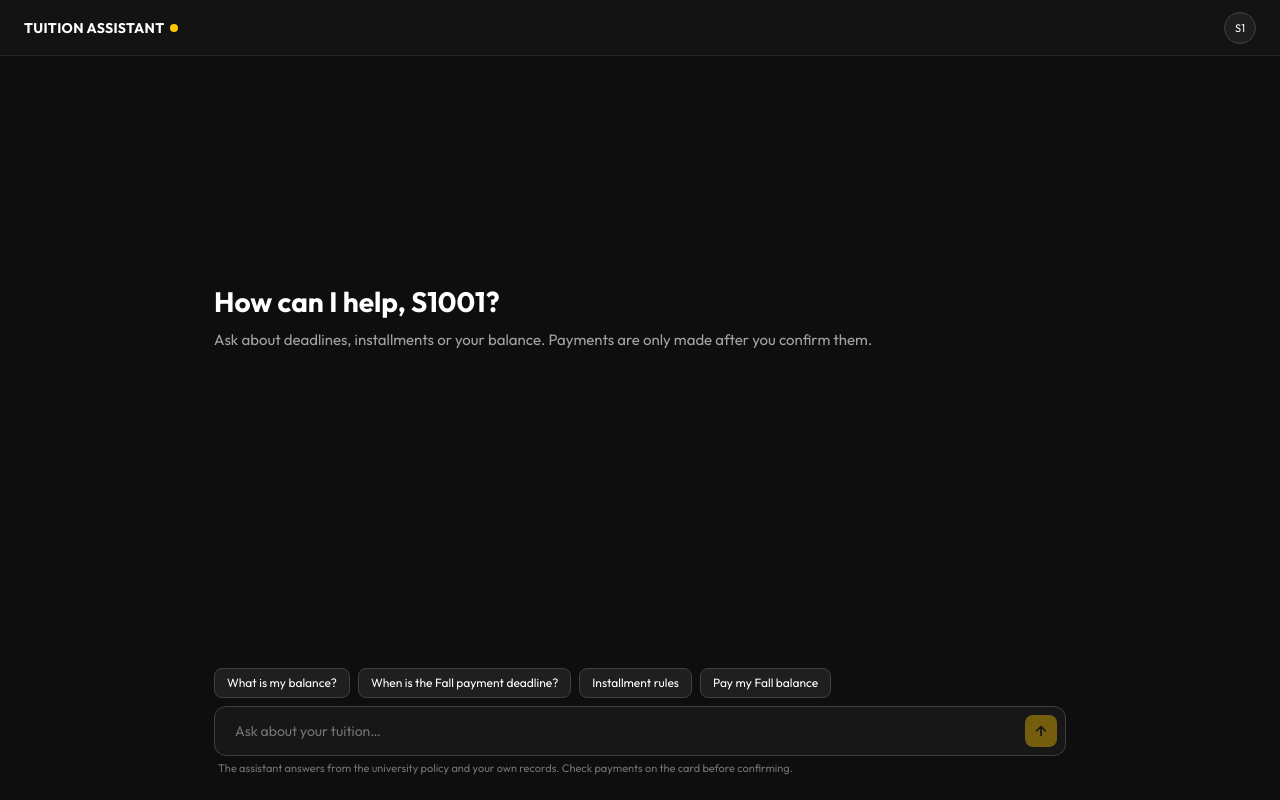
Test: chat screen › sends a message, shows the plain-text reply and a collapsible tool trace
In the text box named "Message": (624, 731) x1=235 y1=715 x2=1013 y2=747, type "When is the Fall payment deadline?"
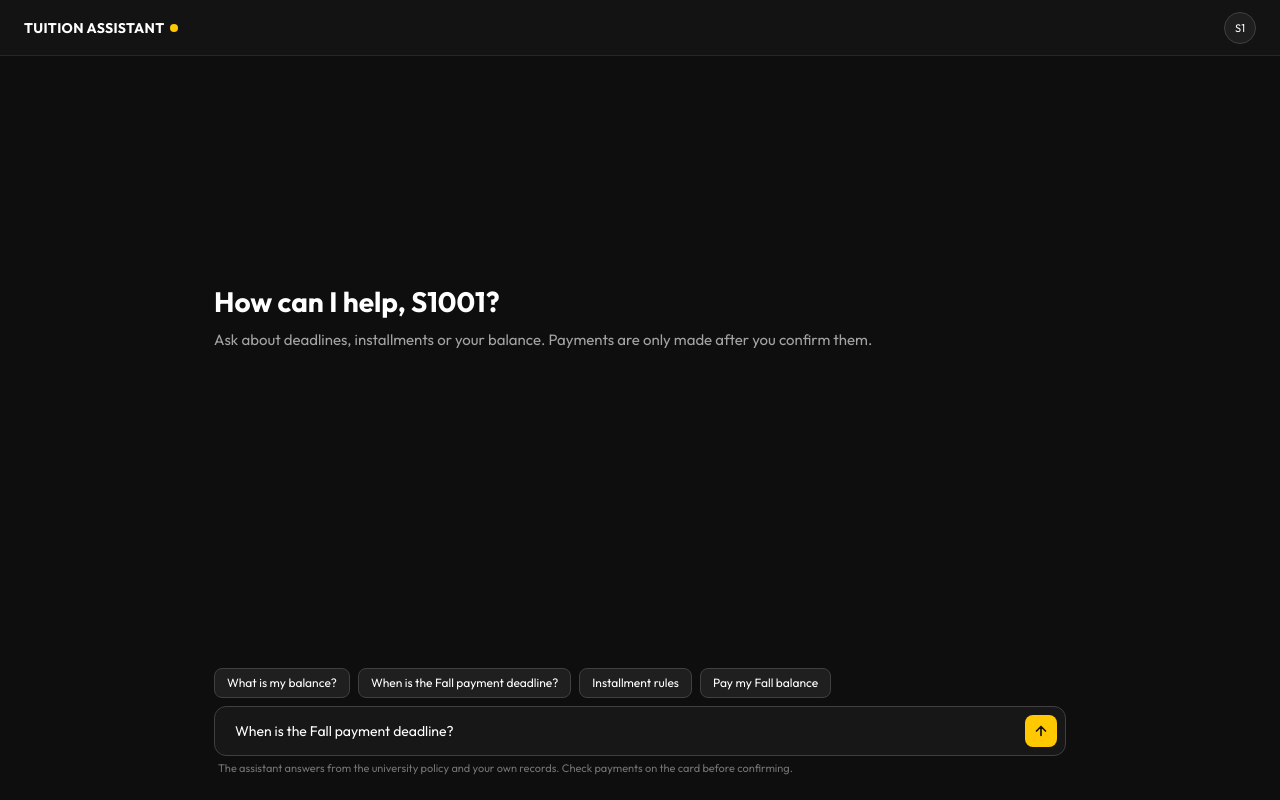
Press Enter in the text box named "Message", box x1=235 y1=715 x2=1013 y2=747
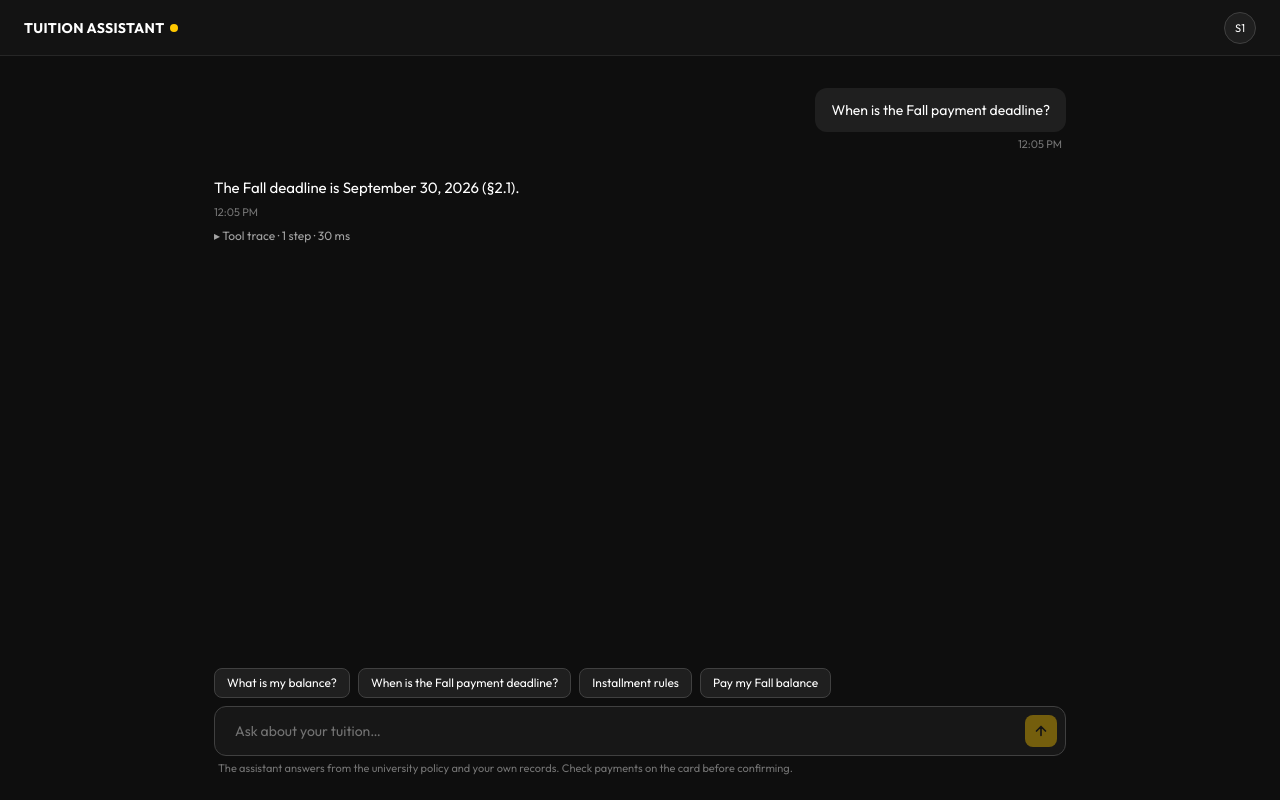
Expected: the text "The Fall deadline is September 30, 2026 (§2.1)." is shown, x1=214 y1=178 x2=520 y2=197
Click the button "▸ Tool trace · 1 step · 30 ms": (282, 236) x1=214 y1=228 x2=350 y2=244
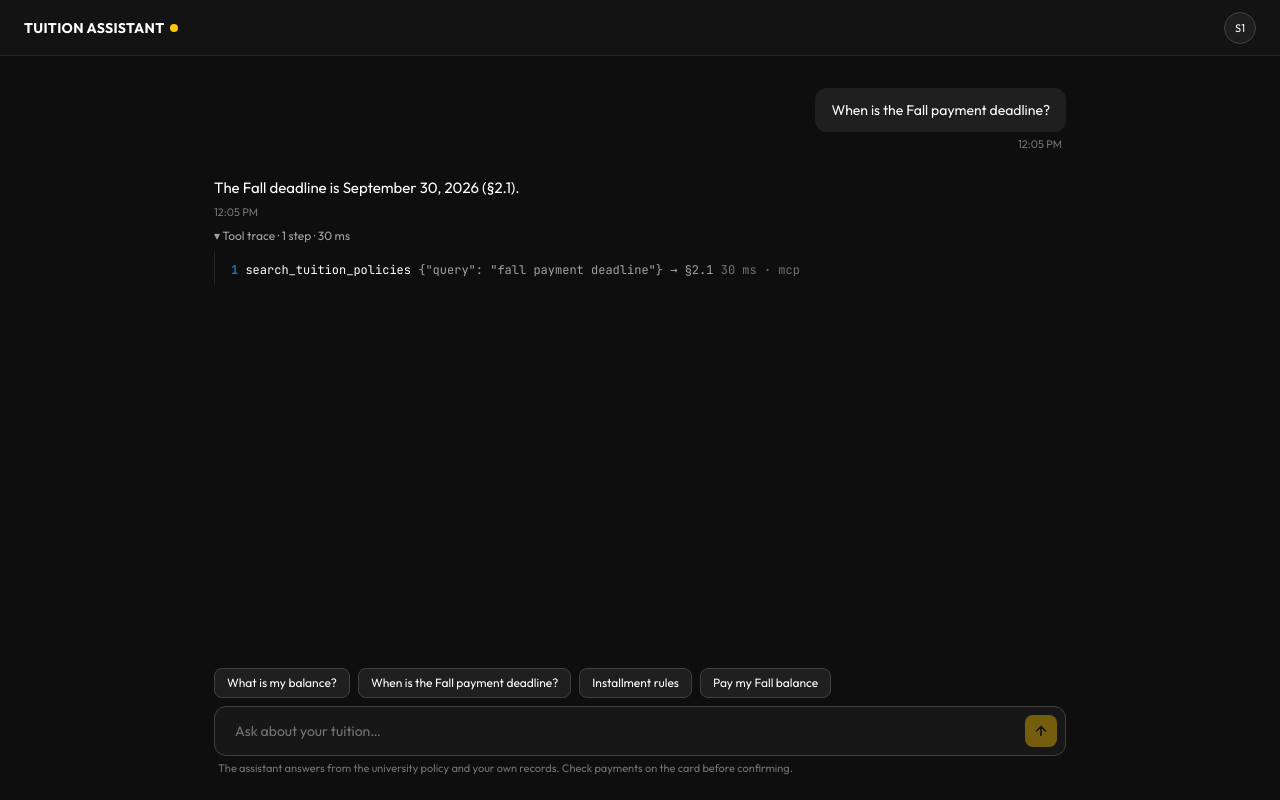
Expected: the list named "Tool trace" shows "search_tuition_policies", x1=231 y1=262 x2=1066 y2=278
Expected: the list named "Tool trace" shows "§2.1", x1=231 y1=262 x2=1066 y2=278
